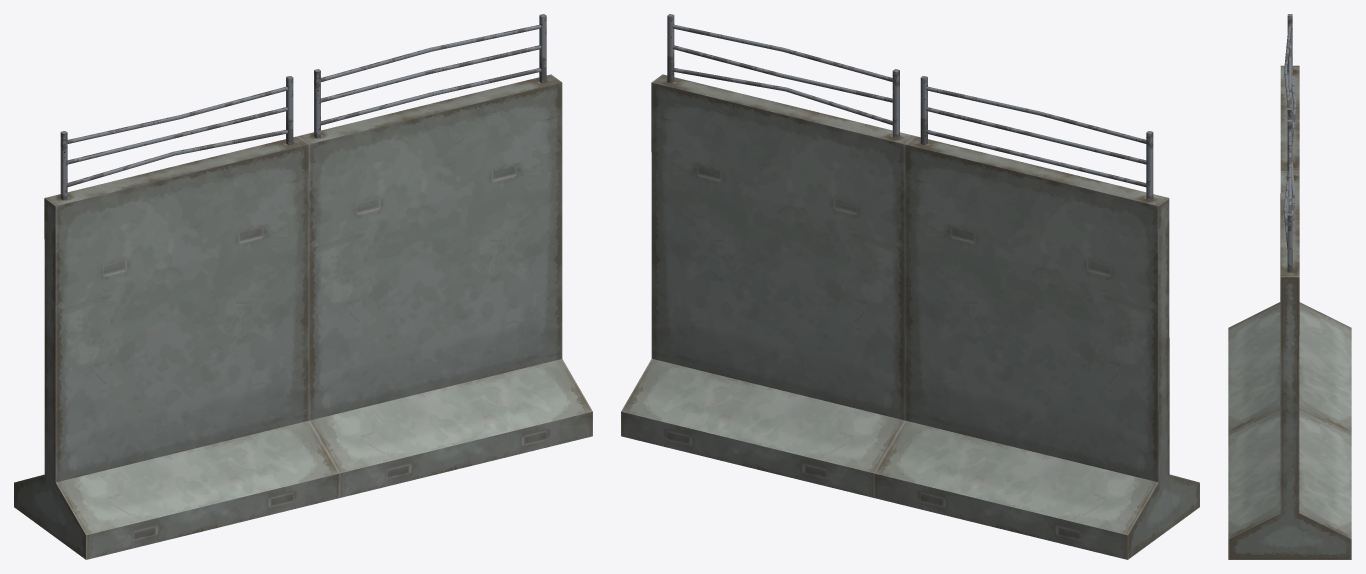
Rendered from BarrierConcrete02_4.FBX.
3 views of the same model, side by side, from view 1: azimuth 30°, elevation 25°; view 2: azimuth 150°, elevation 25°; view 3: azimuth 270°, elevation 25° (orthographic). The views are drawn at different scales.
Parts seen in each view (by area): view 1: BarrierConcrete02_4; view 2: BarrierConcrete02_4; view 3: BarrierConcrete02_4.
Boxes of the visible parts, x1,y1,x2,y2 form: BarrierConcrete02_4: (14,14,592,559); BarrierConcrete02_4: (621,14,1199,559); BarrierConcrete02_4: (1228,14,1351,559).
Size of what is drawn, in the model's own units: 4 by 3 by 0.9855.
